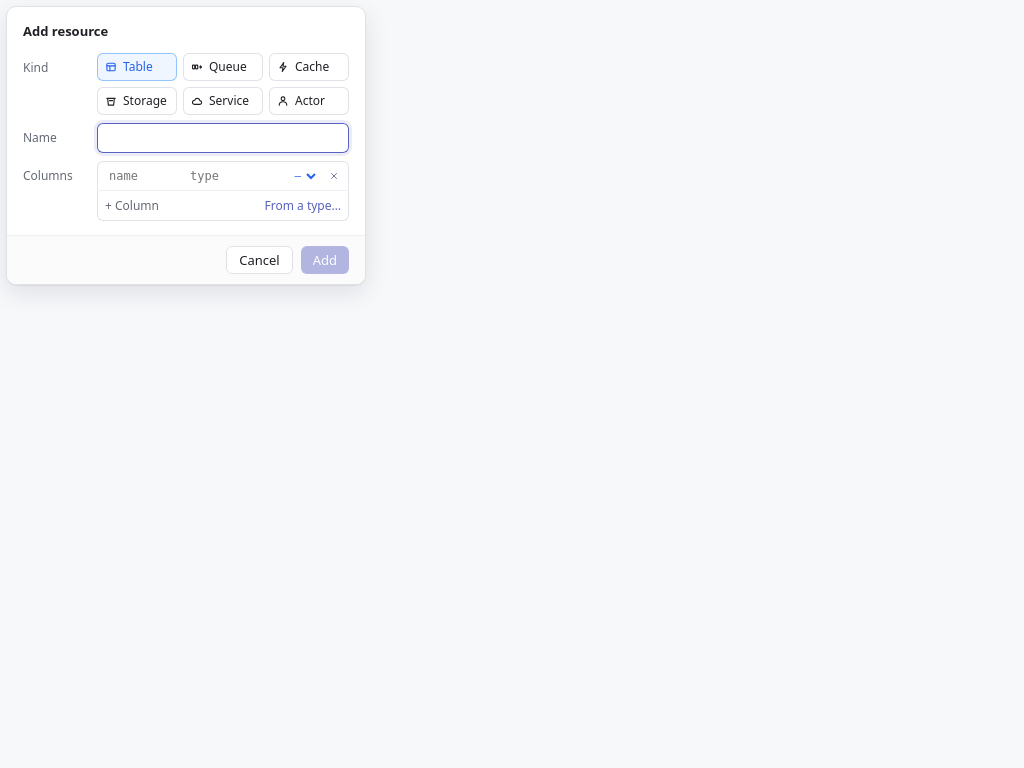
Test: Add resource… › shows what the board refuses
Step 1. Type "orders" into the field labelled "Name" → point(223, 138), box [97, 123, 349, 153]
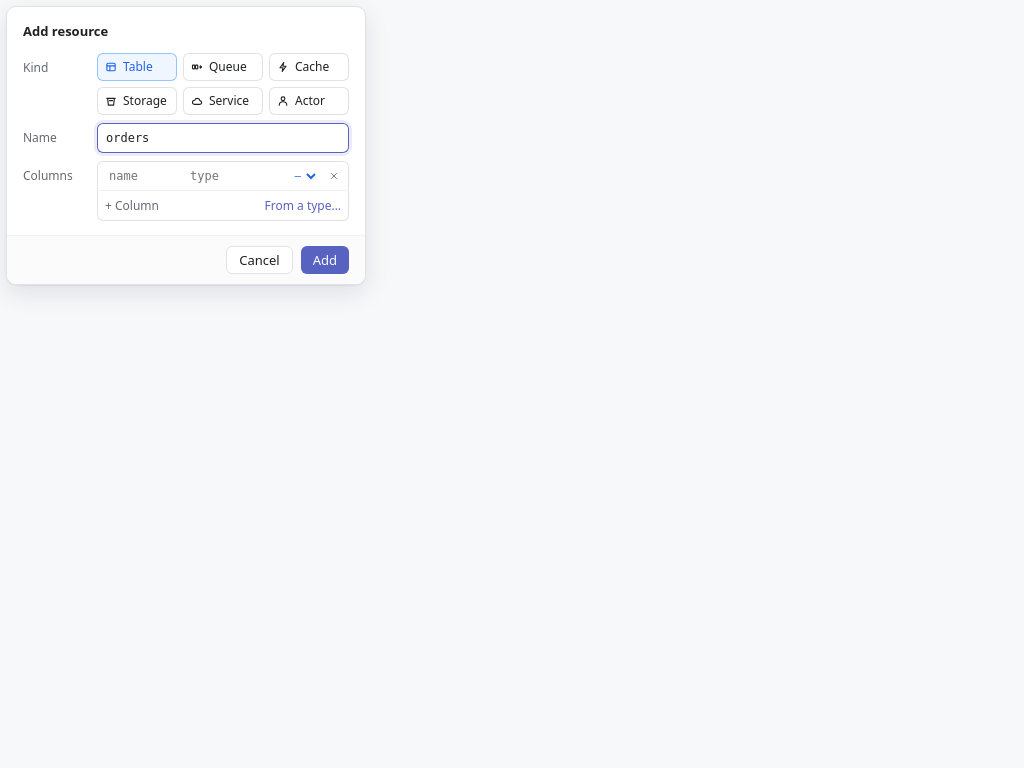
expect the button "Add" is enabled: met
Step 2. Click the button "Add" → point(325, 260), box [301, 246, 349, 274]
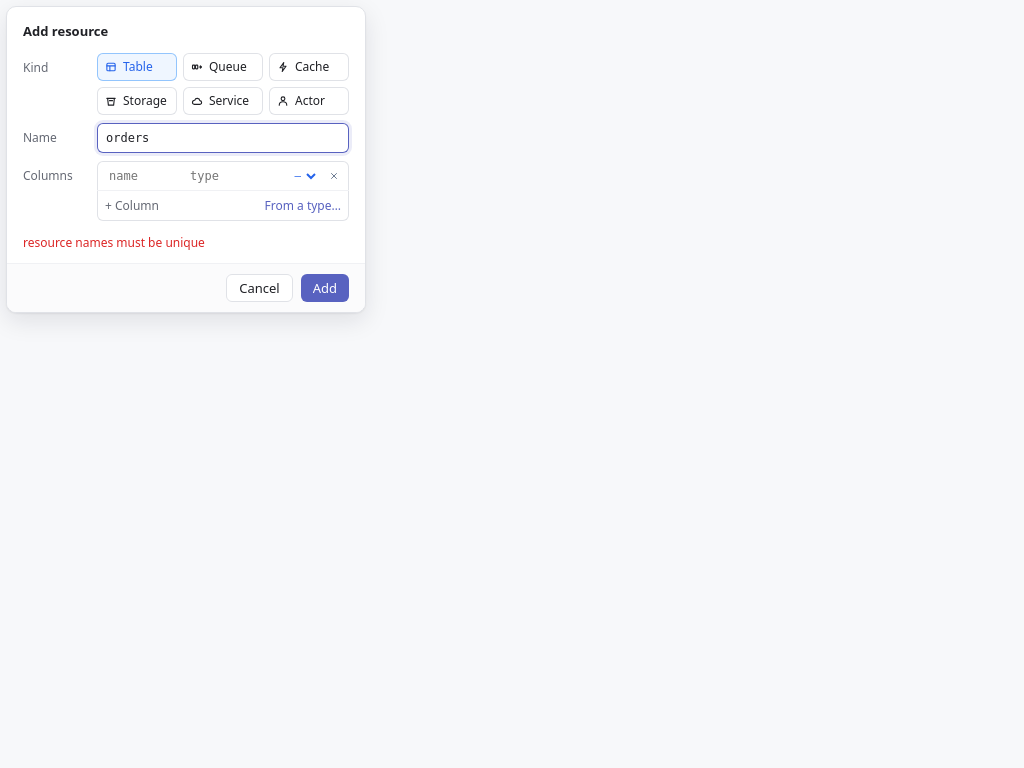
expect the text "resource names must be unique" is shown: met, box [23, 234, 205, 251]
